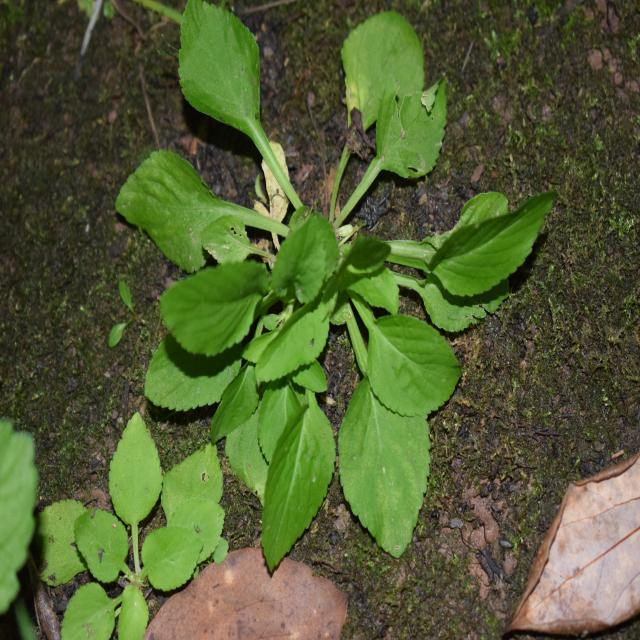Viola: (130, 98, 518, 523)
